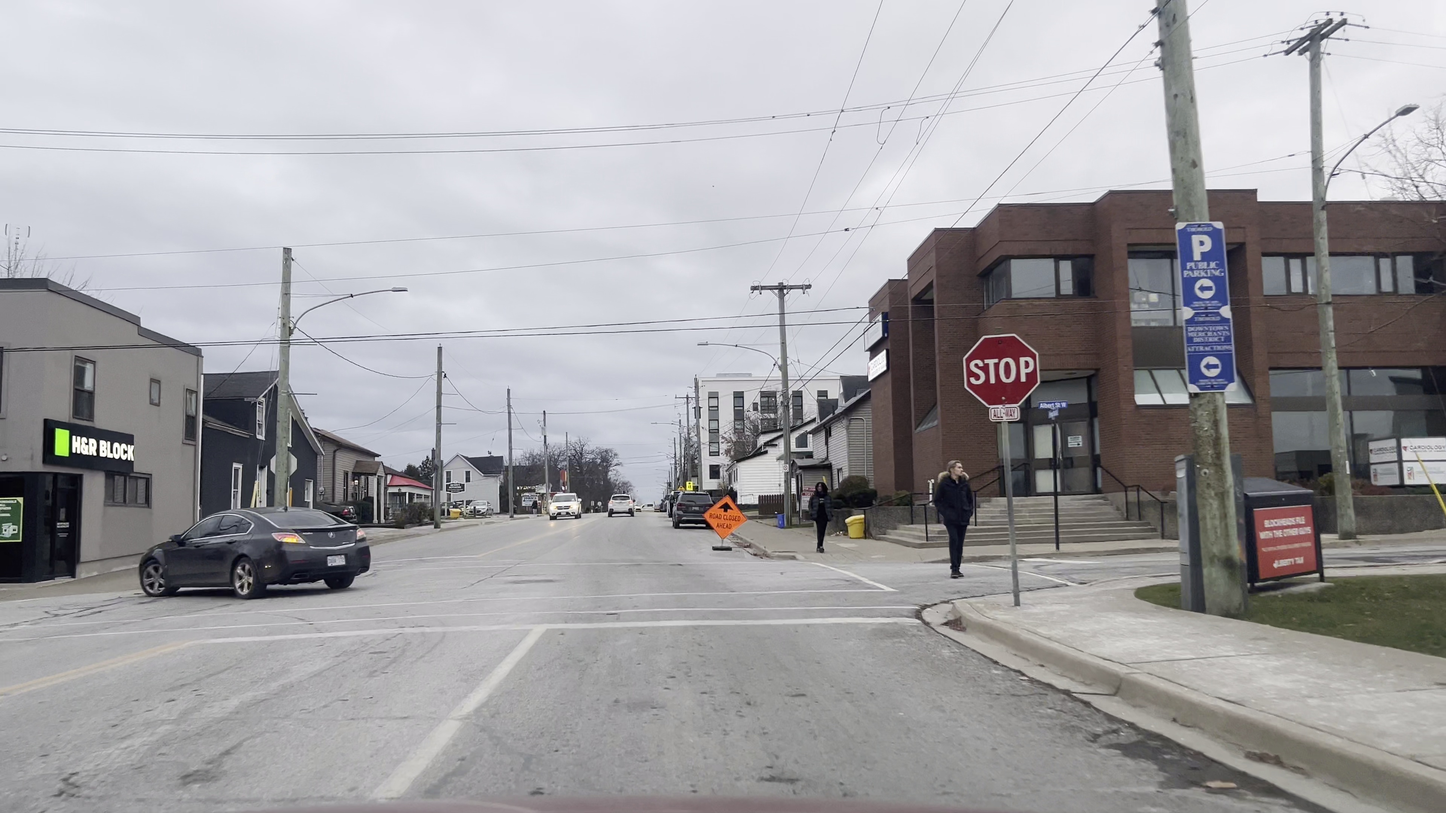cracks: (4, 607, 90, 640), (89, 591, 162, 612)
flooding: (1053, 719, 1320, 807)
